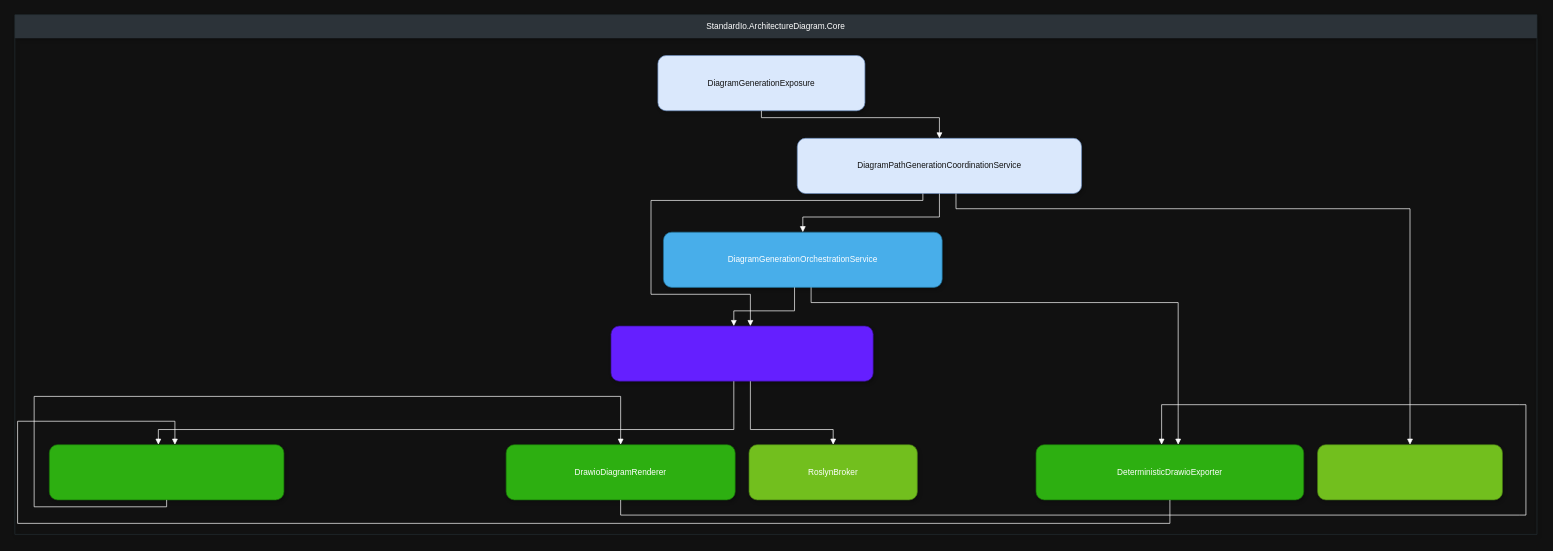
This 1553x551 diagram has some shape labels left out. The shapes that lost their labels are listed below. From the top down, each one's centre as x and y in pixels, then its label:
point 742,354: DiagramRenderingProcessingService
point 167,473: DiagramRendererRegistry
point 1410,473: WorkspacePathBroker
